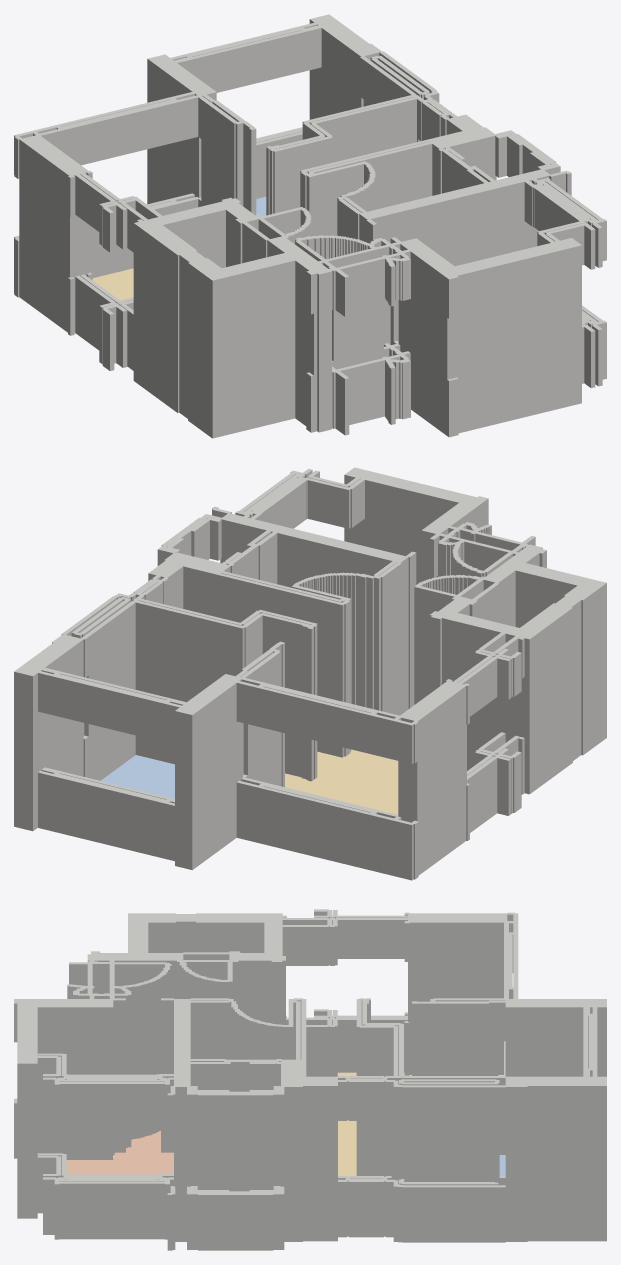
3 renders of one model, top to bottom at view 1: azimuth 30°, elevation 25°; view 2: azimuth 150°, elevation 25°; view 3: azimuth 270°, elevation 25°, orthographic.
Parts seen in each view (by area): view 1: walls, room:living:5; view 2: walls, room:living:5, room:bedroom:0; view 3: walls, room:kitchen:3, room:living:5.
Part boxes in pixels (x1,y1,x2,y2): walls: [14, 14, 606, 438]; room:living:5: [92, 268, 133, 300]; walls: [14, 467, 606, 880]; room:living:5: [285, 749, 398, 814]; room:bedroom:0: [101, 755, 174, 798]; walls: [14, 909, 606, 1250]; room:kitchen:3: [66, 1130, 173, 1174]; room:living:5: [337, 1072, 503, 1176].
Bounding box in the file's own units: 7.19 × 2.8 × 9.69.
